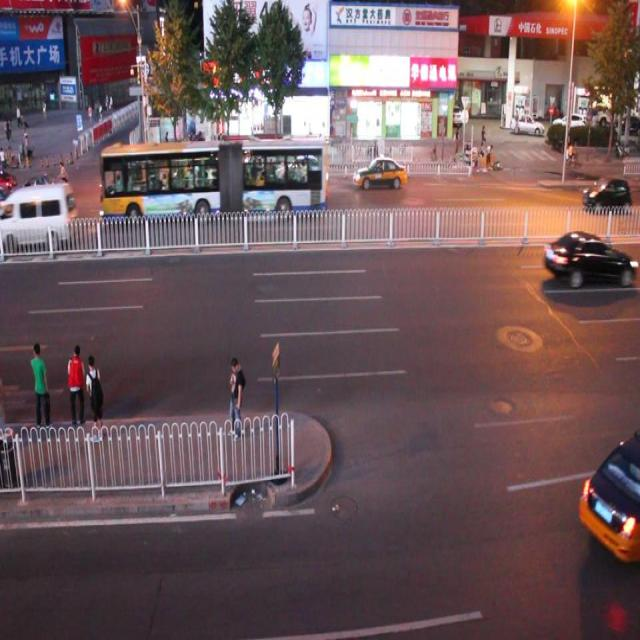car: (97, 140, 328, 222), (578, 426, 640, 565), (539, 228, 632, 292), (579, 171, 629, 214), (352, 154, 406, 192), (178, 154, 224, 193), (12, 173, 64, 206), (280, 152, 327, 186), (1, 165, 17, 198)
truck: (1, 183, 77, 254)
